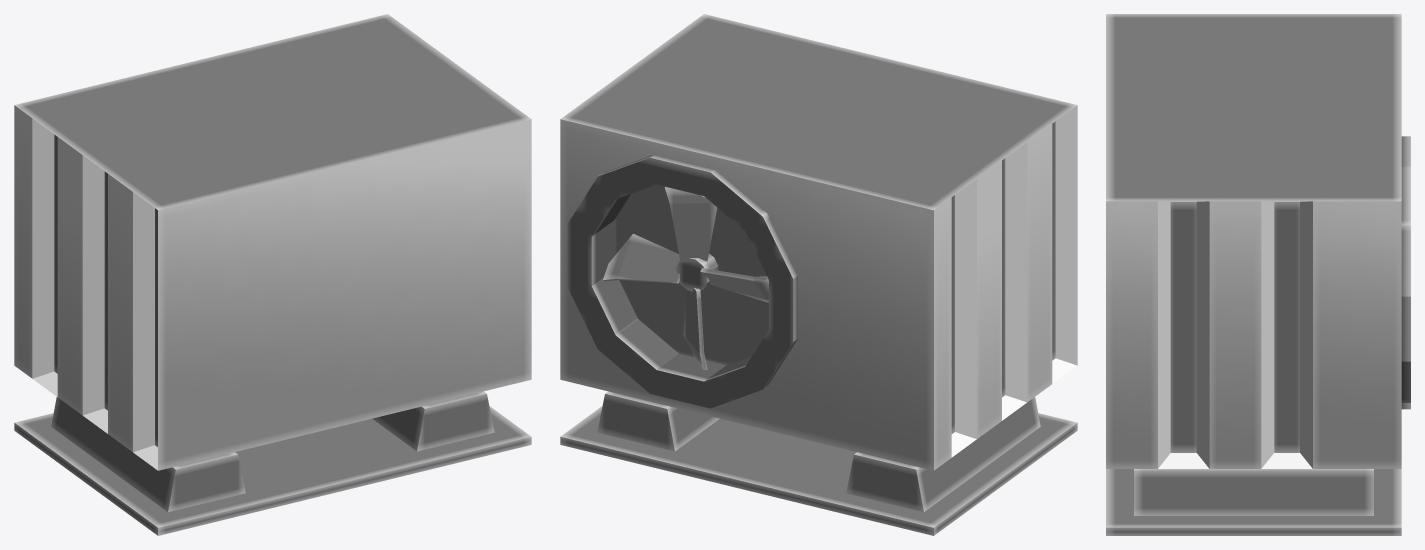
File: situgaiki.fbx
The picture shows the model from 3 angles, left to right: view 1: azimuth 30°, elevation 25°; view 2: azimuth 150°, elevation 25°; view 3: azimuth 270°, elevation 25°; orthographic projection. The views are drawn at different scales.
Parts seen in each view (by area): view 1: cuboid, cuboid_5, cuboid_7, cuboid_6; view 2: cuboid, tube, cuboid_5, cuboid_7, cuboid_6, cuboid_1, cuboid_4, cuboid_2, cuboid_3, cylinder; view 3: cuboid, cuboid_6, cuboid_5, tube.
Boxes of the visible parts, bbox=[...] form: cuboid: bbox=[14, 14, 531, 470]; cuboid_5: bbox=[14, 406, 531, 535]; cuboid_7: bbox=[51, 397, 245, 512]; cuboid_6: bbox=[372, 391, 494, 451]; cuboid: bbox=[560, 14, 1077, 470]; tube: bbox=[567, 154, 797, 408]; cuboid_5: bbox=[560, 406, 1077, 535]; cuboid_7: bbox=[846, 397, 1040, 512]; cuboid_6: bbox=[597, 391, 719, 451]; cuboid_1: bbox=[665, 186, 717, 262]; cuboid_4: bbox=[603, 233, 679, 283]; cuboid_2: bbox=[700, 268, 768, 302]; cuboid_3: bbox=[683, 287, 707, 369]; cylinder: bbox=[676, 253, 718, 291]; cuboid: bbox=[1106, 14, 1401, 468]; cuboid_6: bbox=[1134, 469, 1373, 515]; cuboid_5: bbox=[1106, 469, 1401, 535]; tube: bbox=[1401, 136, 1410, 409].
Size of the model in its own units: 150 by 125 by 103.
